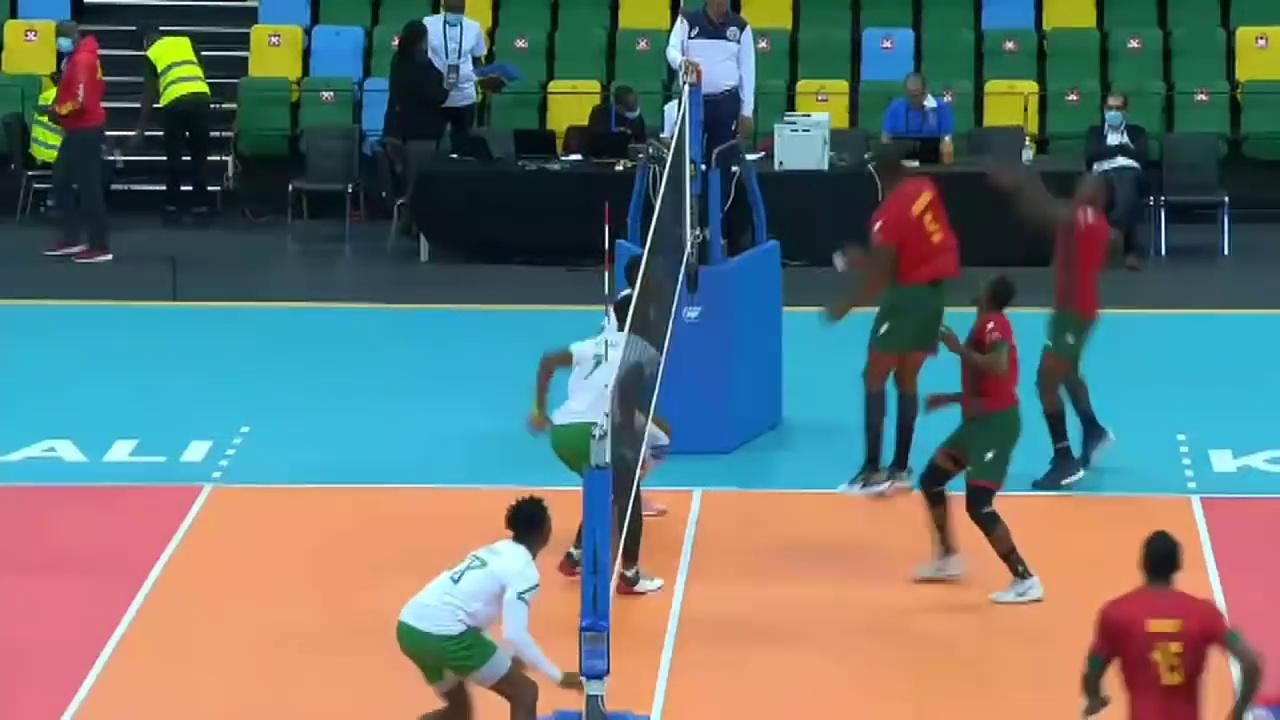player: (910, 270, 1046, 600), (834, 150, 962, 489), (394, 493, 575, 720), (1068, 532, 1266, 718), (1030, 133, 1134, 487), (534, 313, 670, 581), (589, 247, 669, 521)
